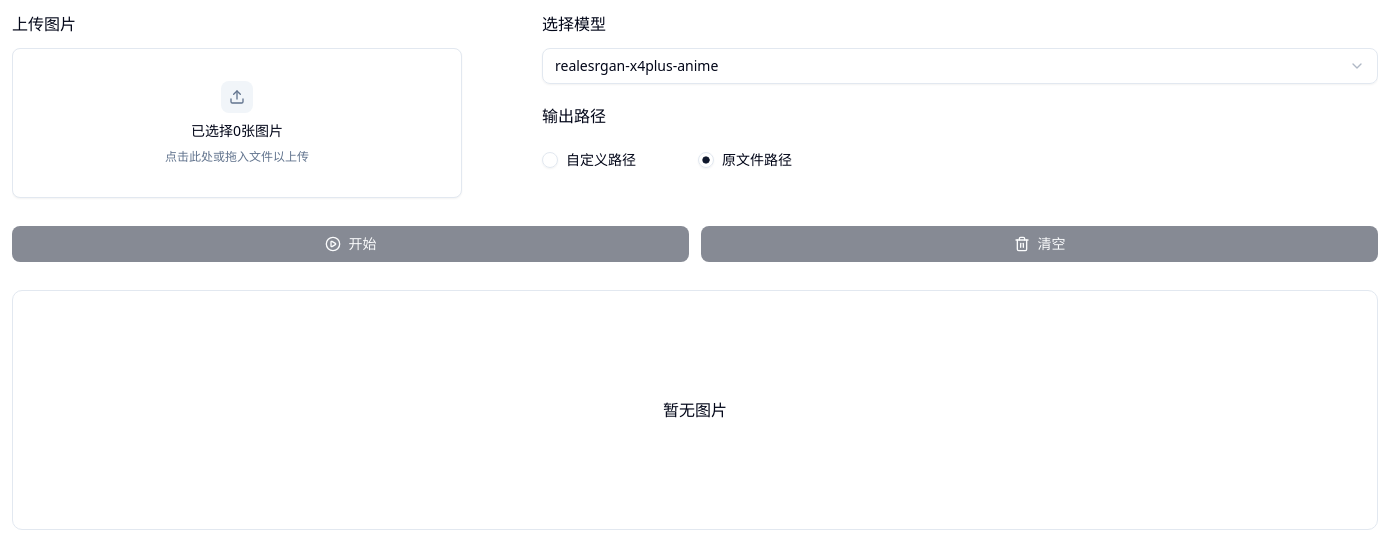
Test case: Tauri 首页 › 读取原生模型列表
The width and height of the screenshot is (1390, 547).
Step 1. Click the dropdown → (637, 66), box [542,48,1378,84]
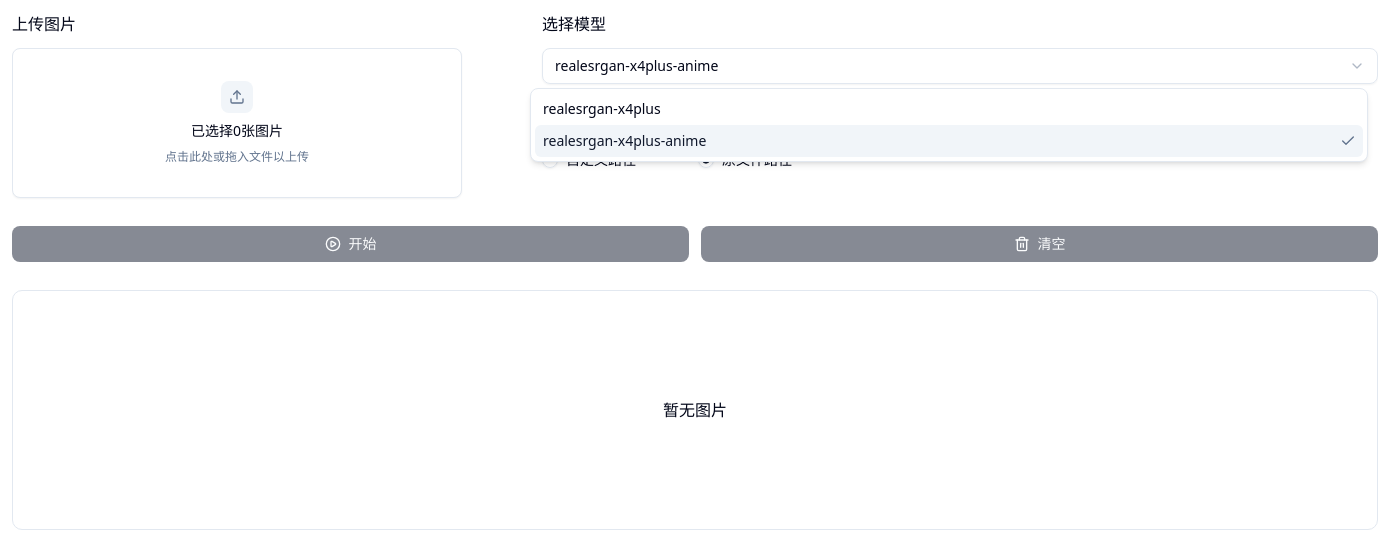
Check: the options read "realesrgan-x4plus", "realesrgan-x4plus-anime", in this order, box [543,99,661,118]; [535,125,1363,157]
